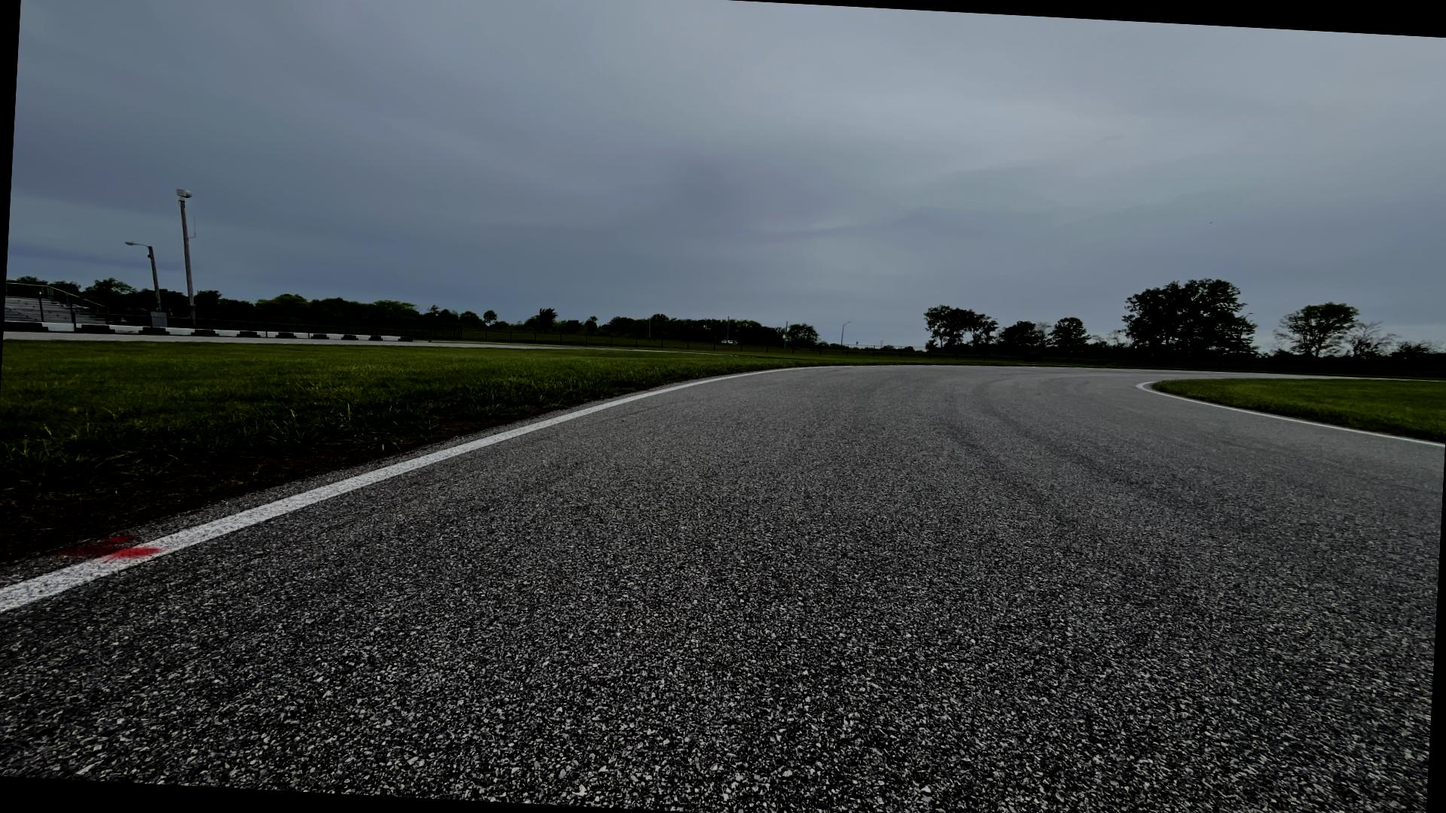white-line: (0, 364, 927, 616), (1137, 378, 1444, 448)
